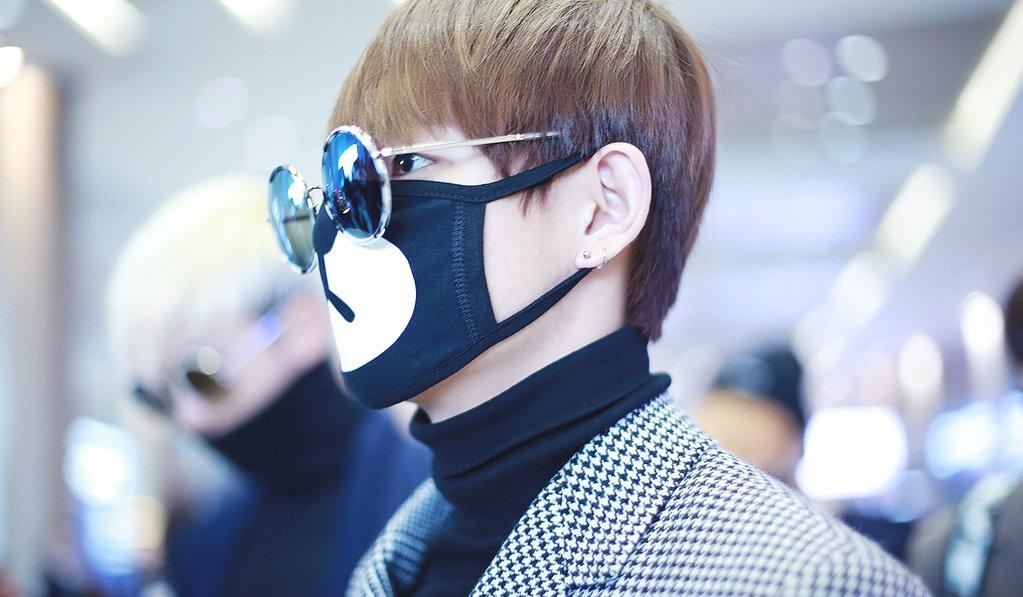NONE: (133, 312, 310, 472)
OK: (308, 93, 616, 401)
